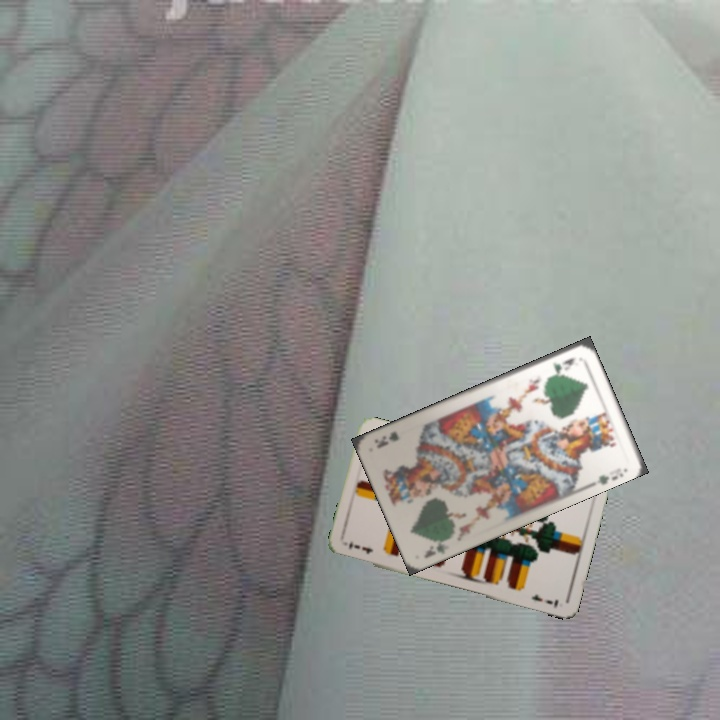E7: (345, 539, 375, 557)
GK: (420, 532, 454, 560), (549, 353, 579, 375)
